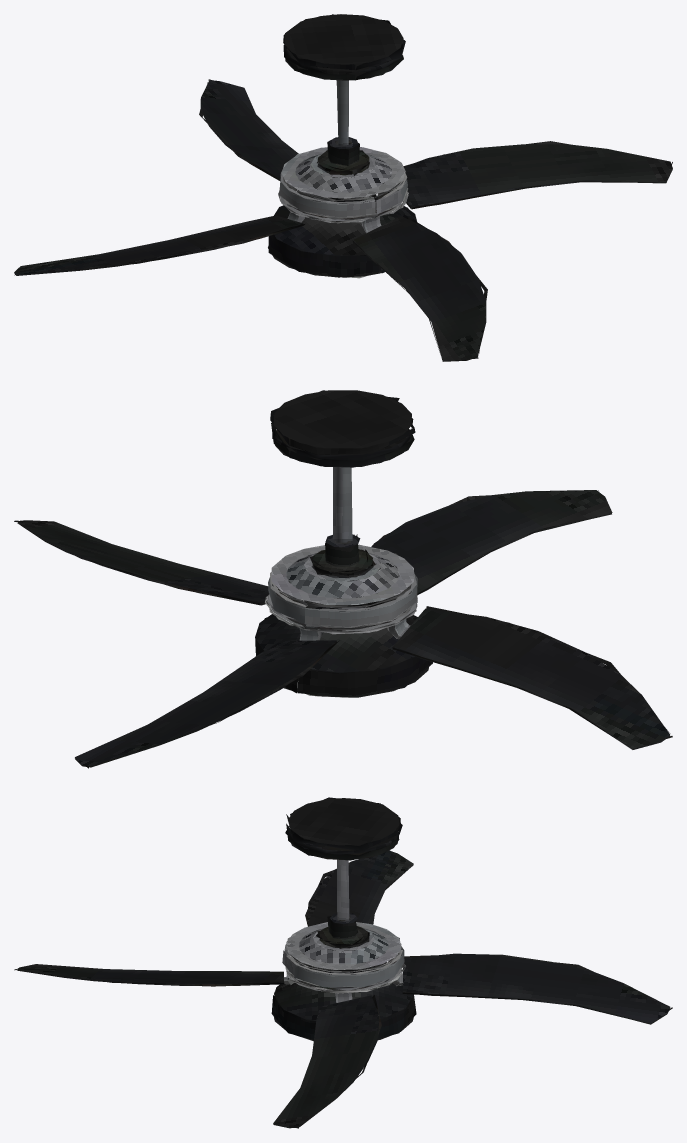
Rendered from ceiling_fan.glb.
The picture shows the model from 3 angles, top to bottom: view 1: azimuth 30°, elevation 25°; view 2: azimuth 150°, elevation 25°; view 3: azimuth 270°, elevation 25°; orthographic projection. The views are drawn at different scales.
Parts seen in each view (by area): view 1: ceiling_fan; view 2: ceiling_fan; view 3: ceiling_fan.
Boxes of the visible parts, left/top/right/bottom form: ceiling_fan: left=14, top=14, right=672, bottom=361; ceiling_fan: left=14, top=390, right=672, bottom=768; ceiling_fan: left=14, top=797, right=672, bottom=1128.
Bounding box in the file's own units: 1.47 × 0.5161 × 1.47.
Materials: 1 (1 with a texture image).
